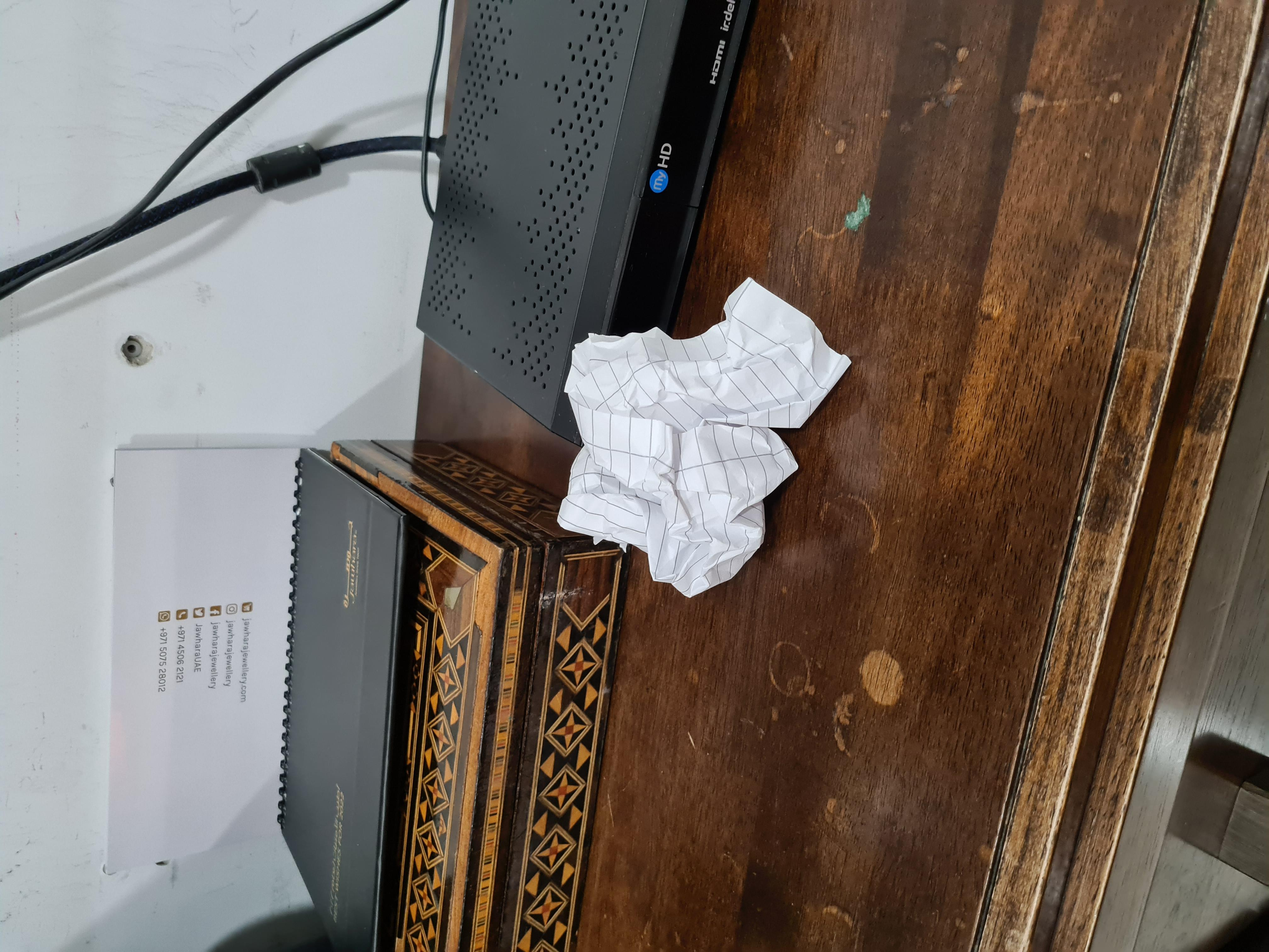paper: (492, 423, 904, 633)
